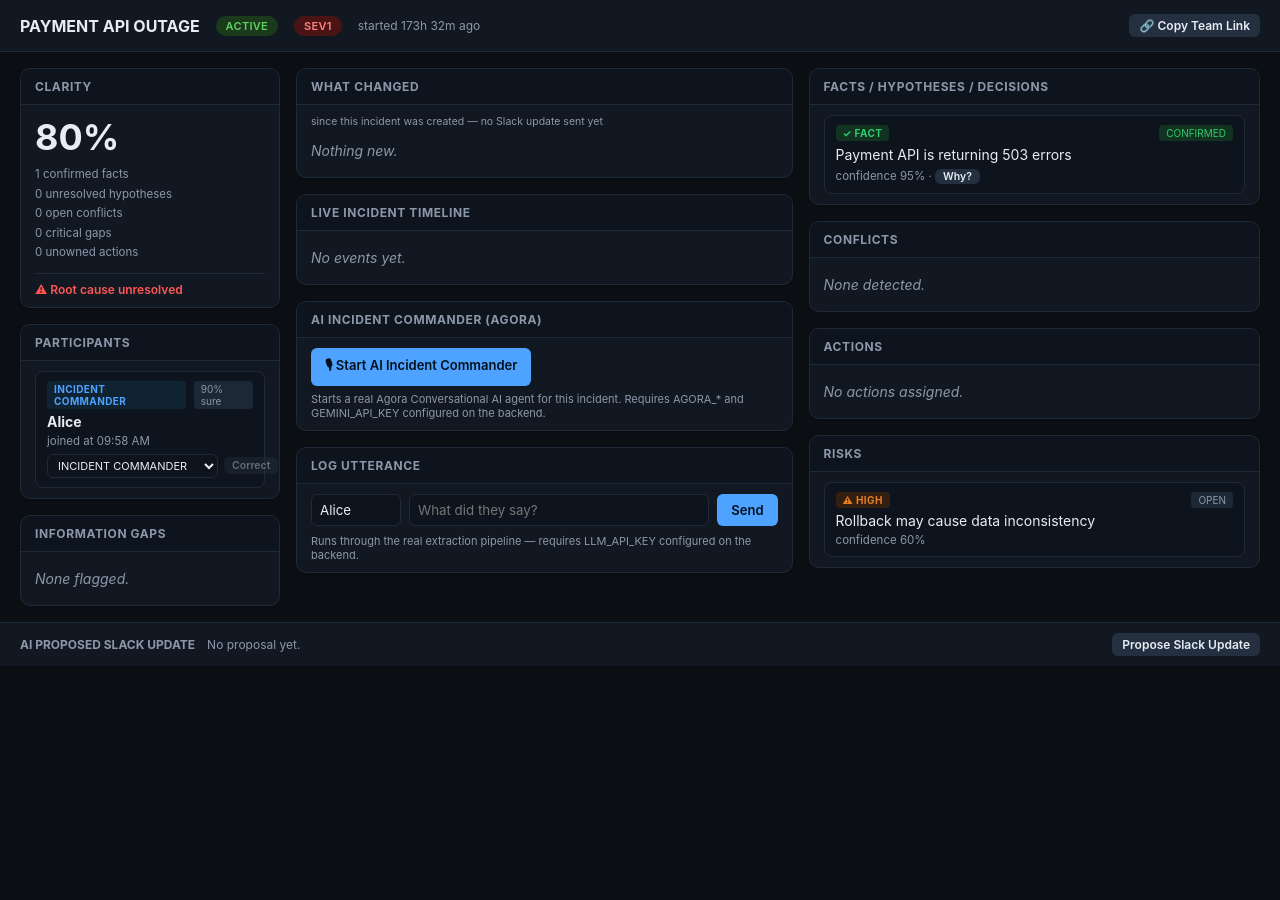
Scenario: Dashboard — end-to-end approval gate through the real UI › closes the gate on rejection without ever executing
Expected: the text "Payment API is returning 503 errors" is shown, [836,146,1072,163]
Click the button "Propose Slack Update" at x=1186, y=644, box [1112,633,1260,656]
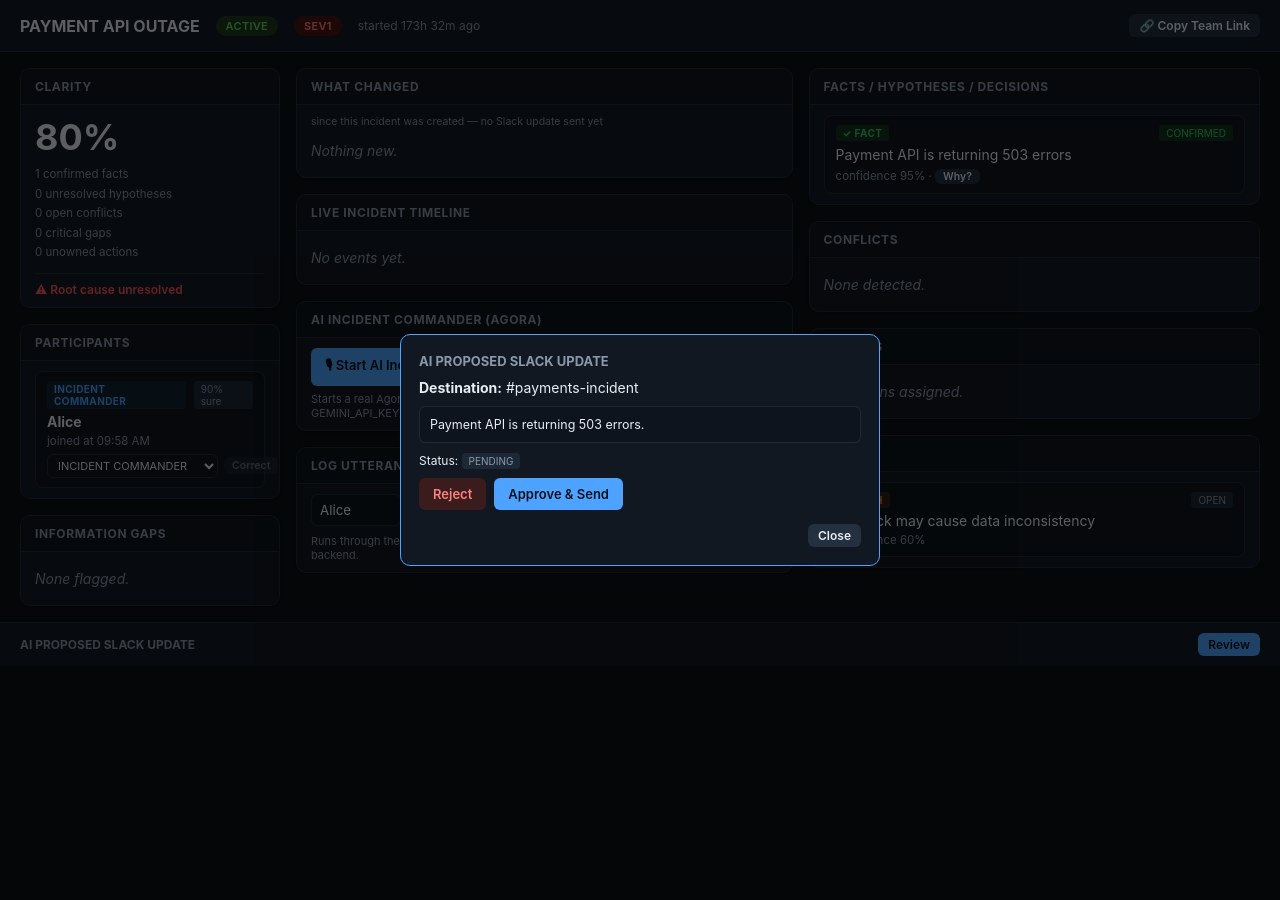
Expected: the element with test id "approval-modal" is shown
Click the button with test id "btn-reject" at x=453, y=494, box [419,478,486,510]
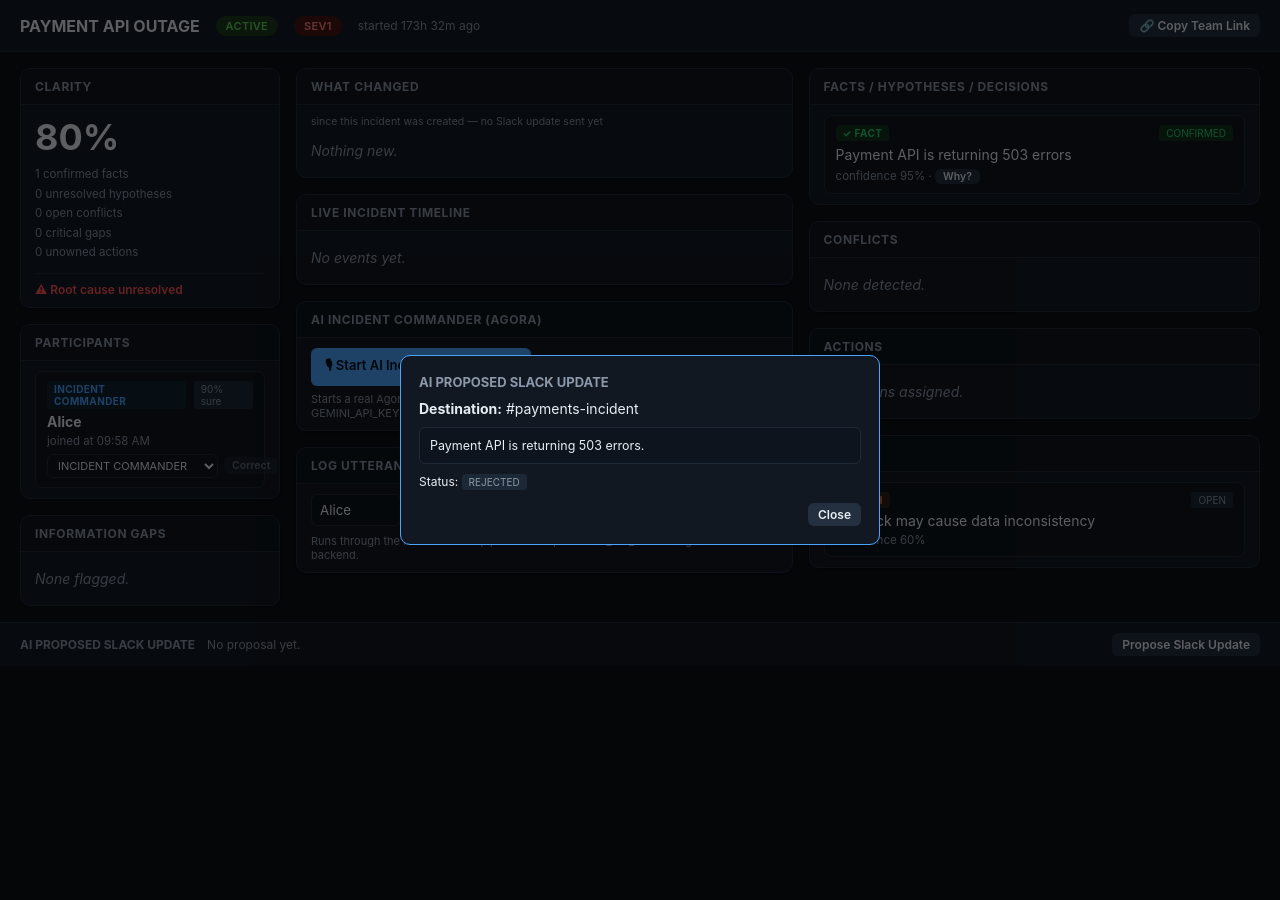
Expected: the element with test id "approval-modal" shows "REJECTED", [469,476,520,488]
